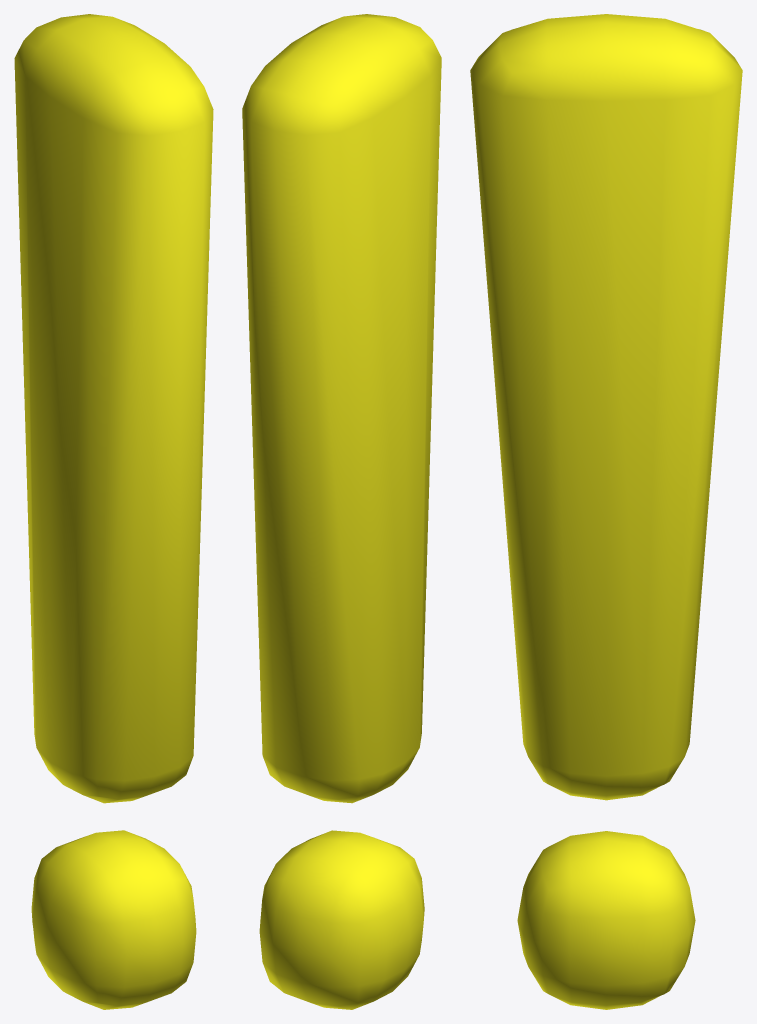
File: Exclamation Mark.fbx
3 renders of one model, left to right at view 1: azimuth 30°, elevation 25°; view 2: azimuth 150°, elevation 25°; view 3: azimuth 270°, elevation 25°, orthographic.
Parts seen in each view (by area): view 1: Exclamation Mark; view 2: Exclamation Mark; view 3: Exclamation Mark.
Part boxes in pixels (bbox=[...]): Exclamation Mark: bbox=[14, 14, 213, 1009]; Exclamation Mark: bbox=[242, 14, 441, 1009]; Exclamation Mark: bbox=[470, 14, 742, 1009].
Size of the model in its own units: 0.2028 by 1.38 by 0.3472.
